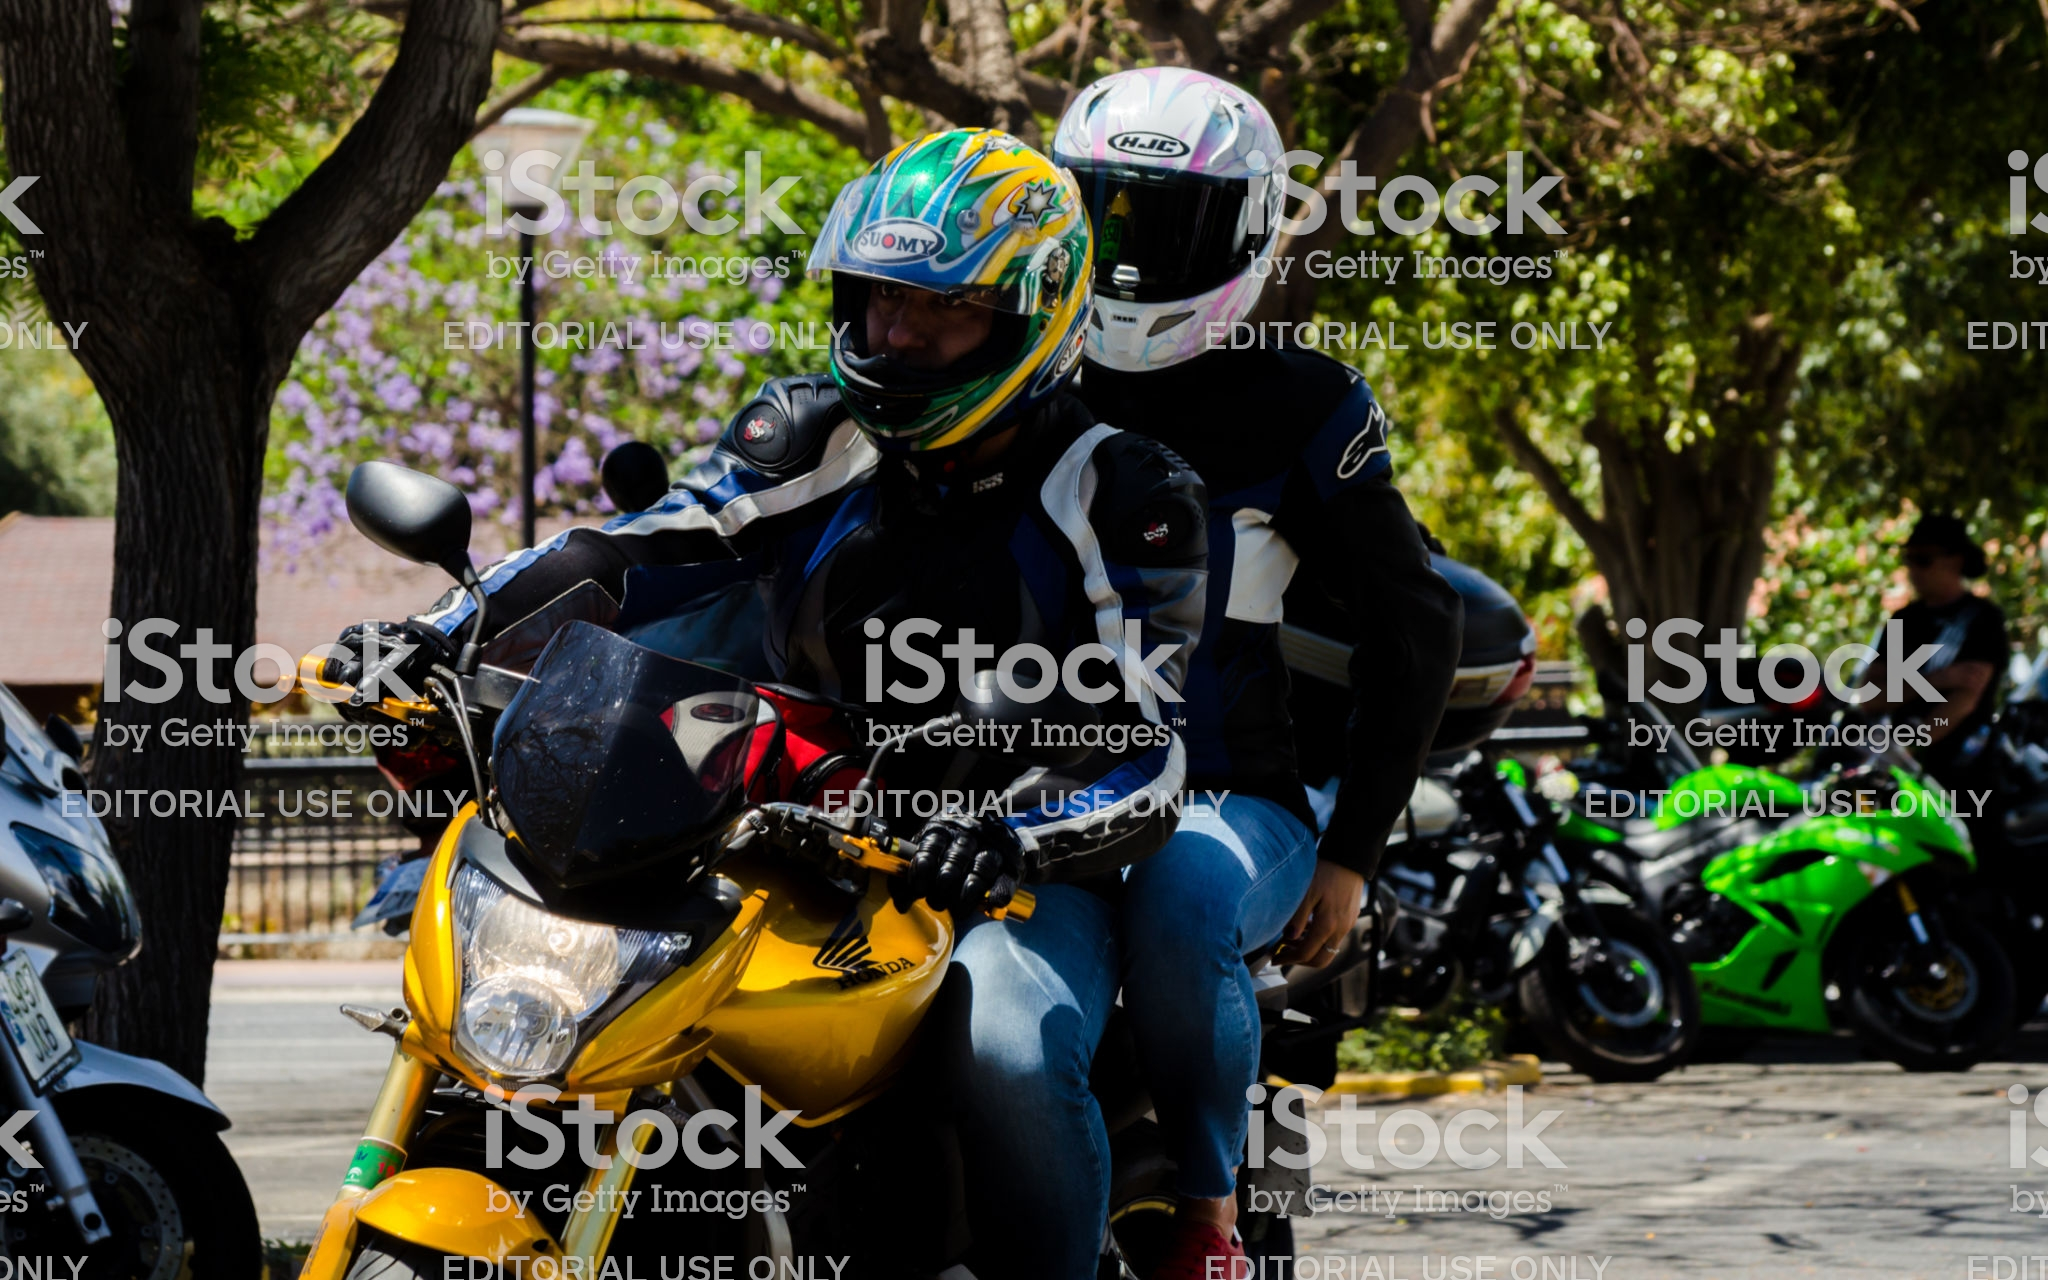helmet: (1042, 69, 1299, 391), (836, 137, 1084, 426)
